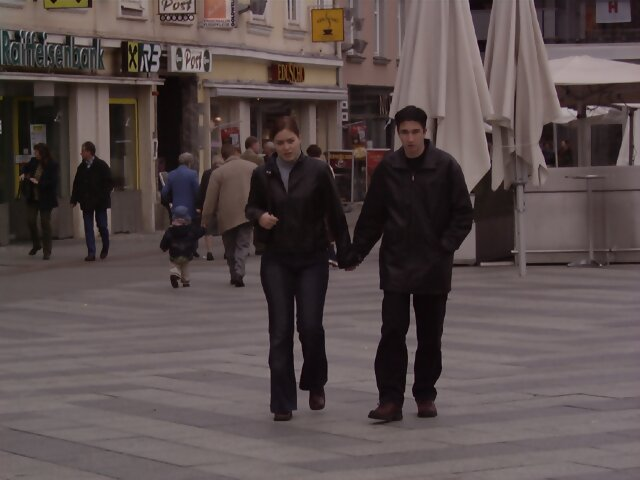person: (358, 104, 472, 423), (241, 112, 352, 418), (201, 138, 262, 289), (68, 139, 126, 264)
